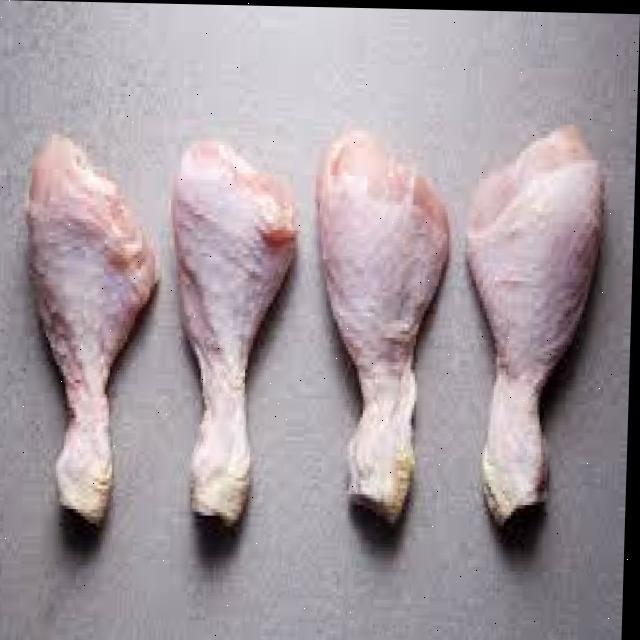leg: (458, 123, 610, 532), (14, 138, 164, 540), (160, 128, 300, 550), (312, 122, 442, 520)
